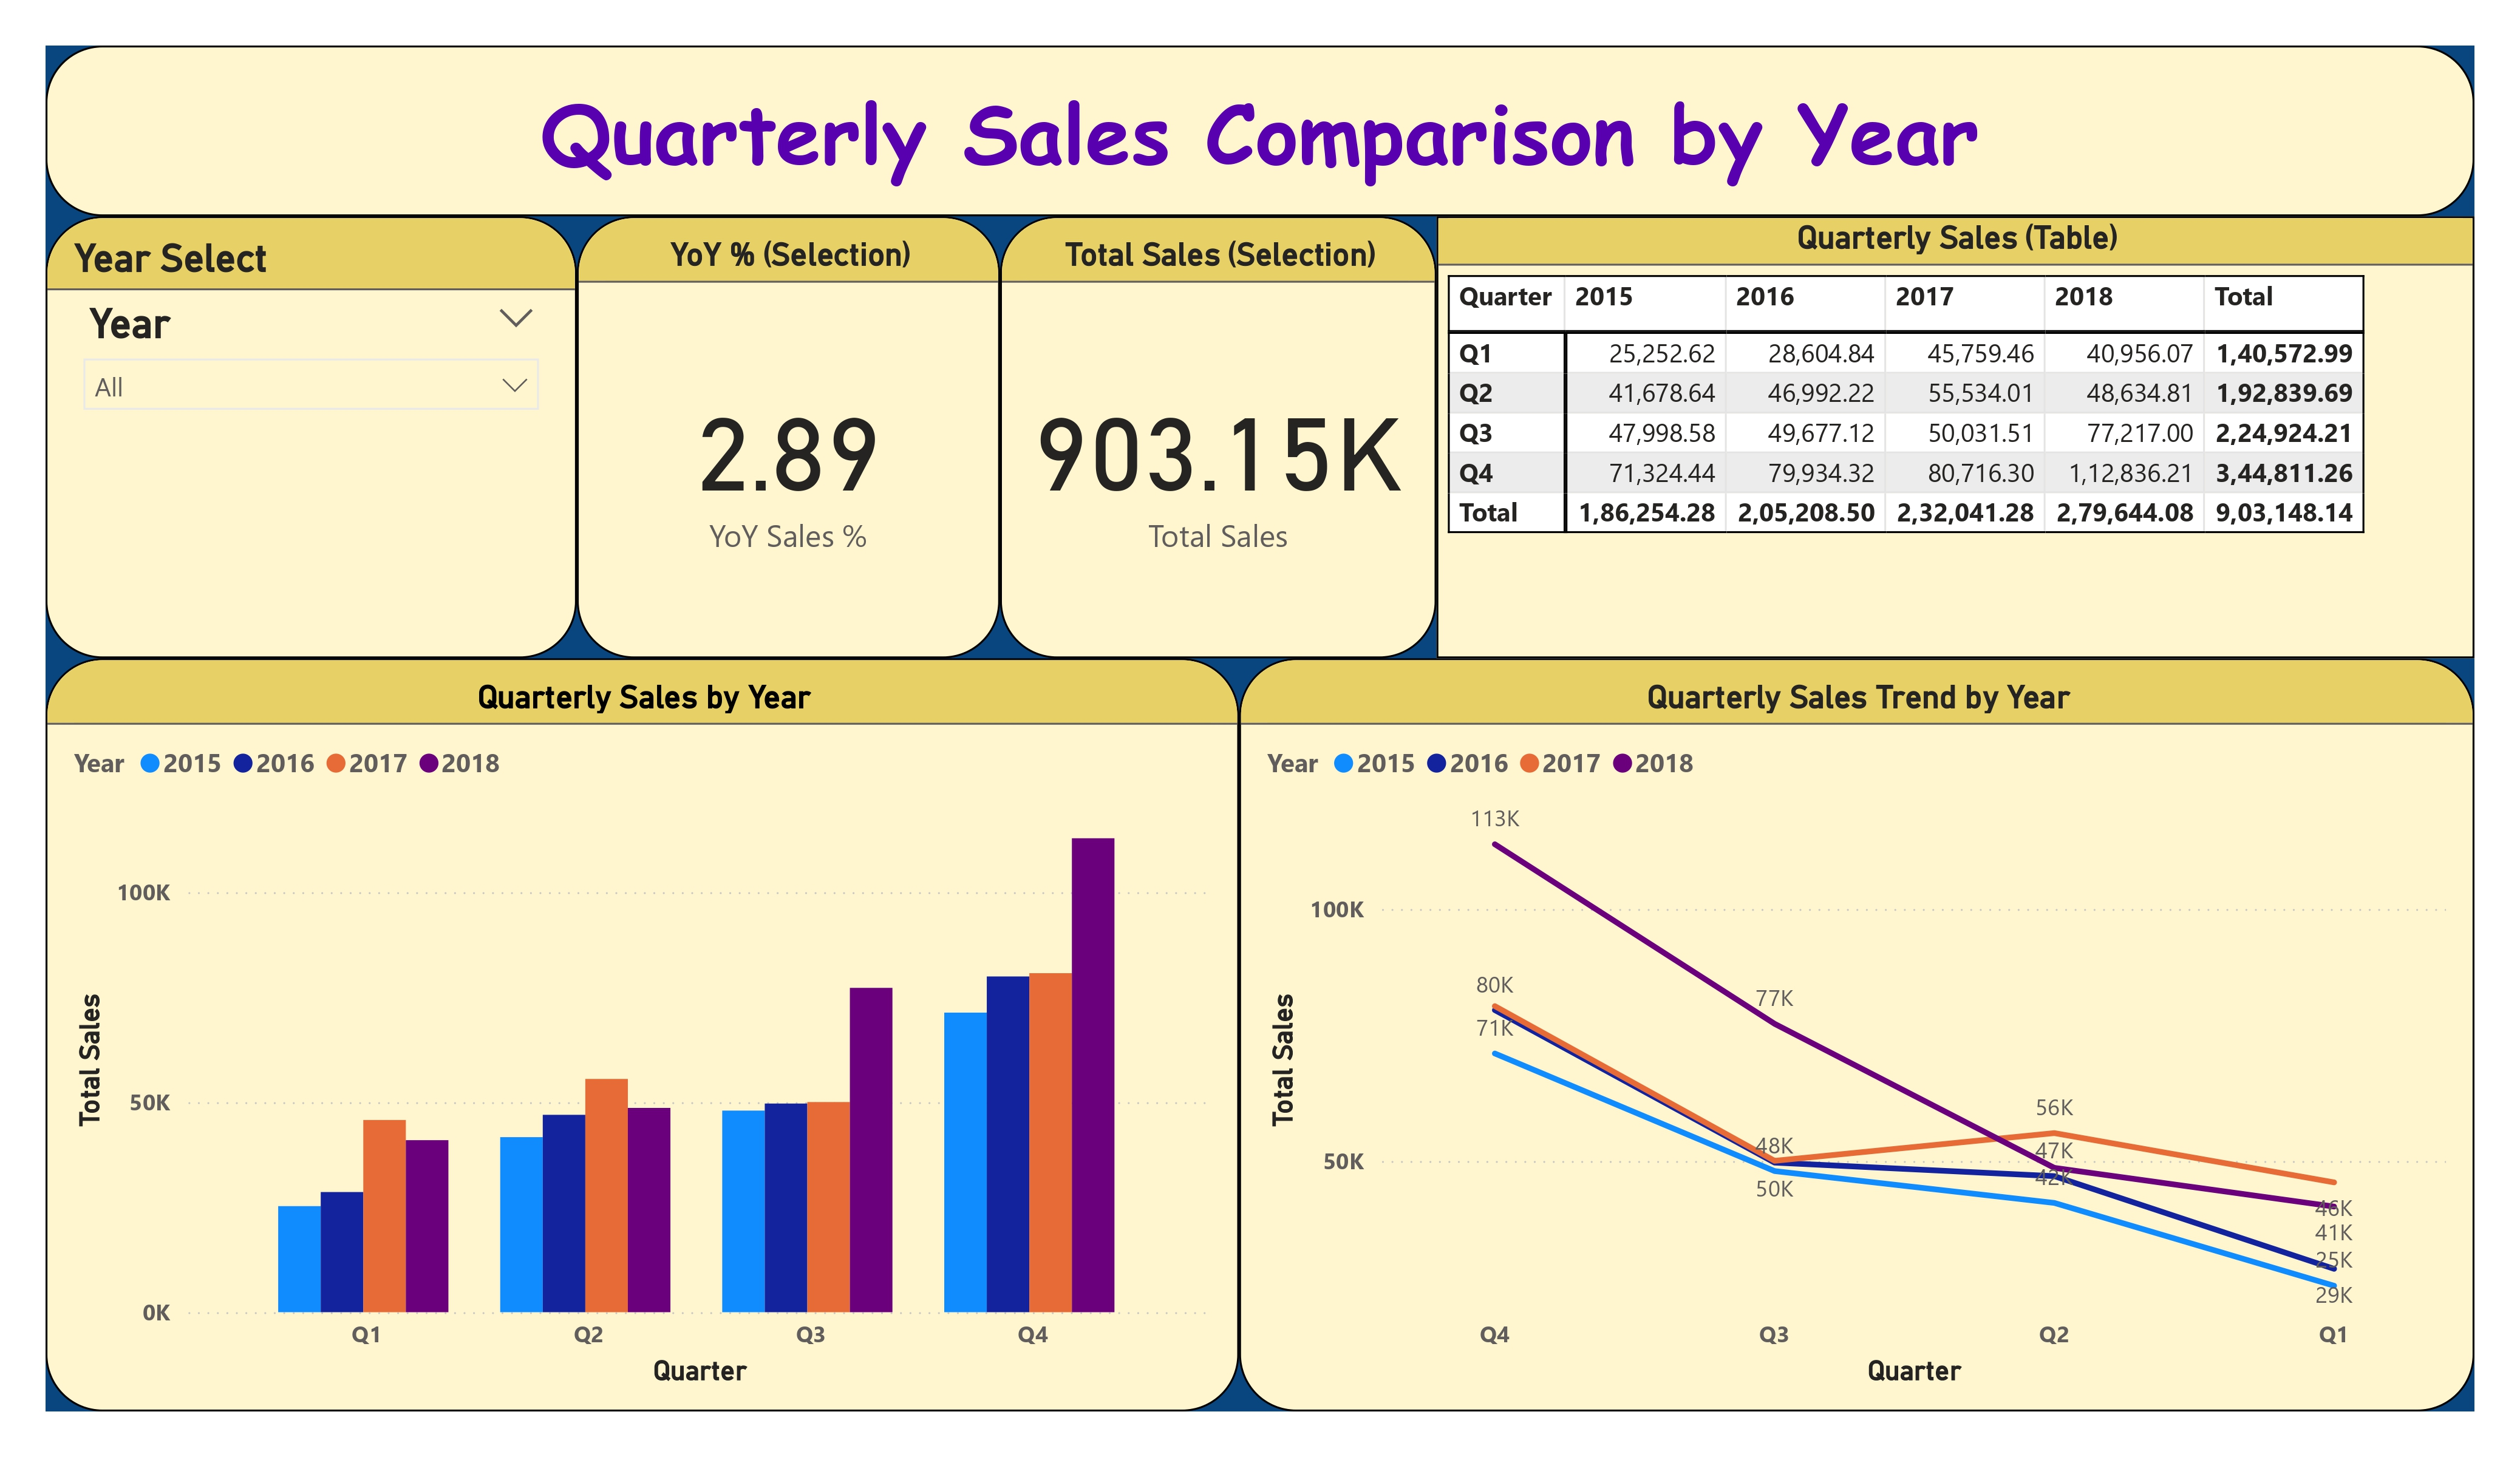

This screenshot's page, from the dashboard's own definition file:
{"tool":"powerbi","page":{"name":"Quarterly Sales Comparison by Year","canvas":[1280,720],"ordinal":10},"visuals":[{"type":"slicer","title":"Year Select","fields":{"Values":["Date1.Year"]},"box":[0,90,280,232.9],"z":0},{"type":"clusteredColumnChart","title":"Quarterly Sales by Year","fields":{"Category":["Date1.Quarter"],"Series":["Date1.Year"],"Y":["Append1.Total Sales"]},"box":[0,322.9,628.6,397.1],"z":1000},{"type":"lineChart","title":"Quarterly Sales Trend by Year","fields":{"Category":["Date1.Quarter"],"Series":["Date1.Year"],"Y":["Append1.Total Sales"]},"box":[628.6,322.9,651.4,397.1],"z":2000},{"type":"pivotTable","title":"Quarterly Sales (Table)","fields":{"Rows":["Date1.Quarter"],"Columns":["Date1.Year"],"Values":["Append1.Total Sales"]},"box":[732.9,90,547.1,232.9],"z":3000},{"type":"card","title":"Total Sales (Selection)","fields":{"Values":["Append1.Total Sales"]},"box":[502.9,90,230,232.9],"z":4000},{"type":"card","title":"YoY % (Selection)","fields":{"Values":["Append1.YoY Sales %"]},"box":[280,90,222.9,232.9],"z":5000},{"type":"textbox","box":[0,0,1280,90],"z":6000}]}

Visuals, with their boxes on the page's 1280x720 design canvas (x1, y1, x2, y2). These are canvas units, not pixel positions in the 2520x1457 screenshot, which may show the page scaled, cropped or inside an application window:
"Year Select" slicer: <box>0,90,280,323</box>
"Quarterly Sales by Year" clusteredColumnChart: <box>0,323,629,720</box>
"Quarterly Sales Trend by Year" lineChart: <box>629,323,1280,720</box>
"Quarterly Sales (Table)" pivotTable: <box>733,90,1280,323</box>
"Total Sales (Selection)" card: <box>503,90,733,323</box>
"YoY % (Selection)" card: <box>280,90,503,323</box>
textbox: <box>0,0,1280,90</box>
